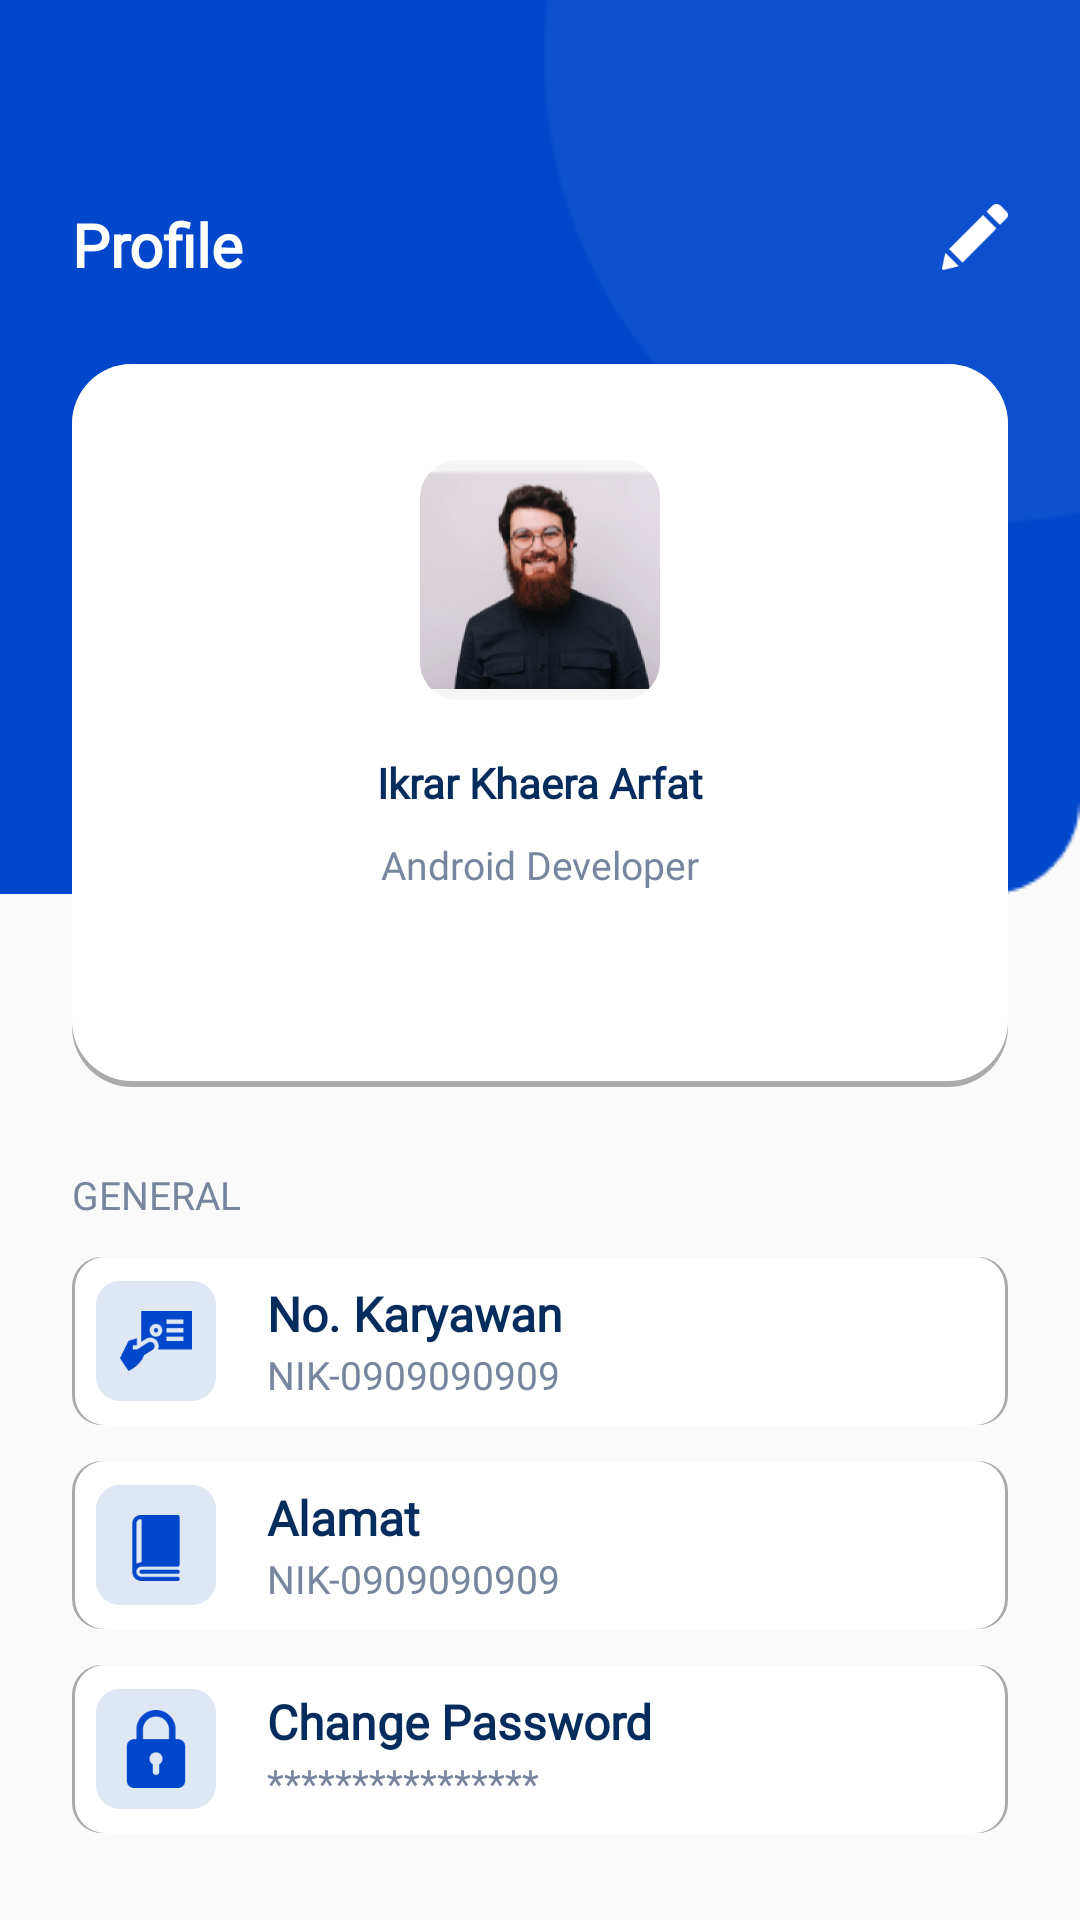

Icon click points for this 1080w x 1920h phone screenshot, format point (x, y):
photouser: point (540, 580)
